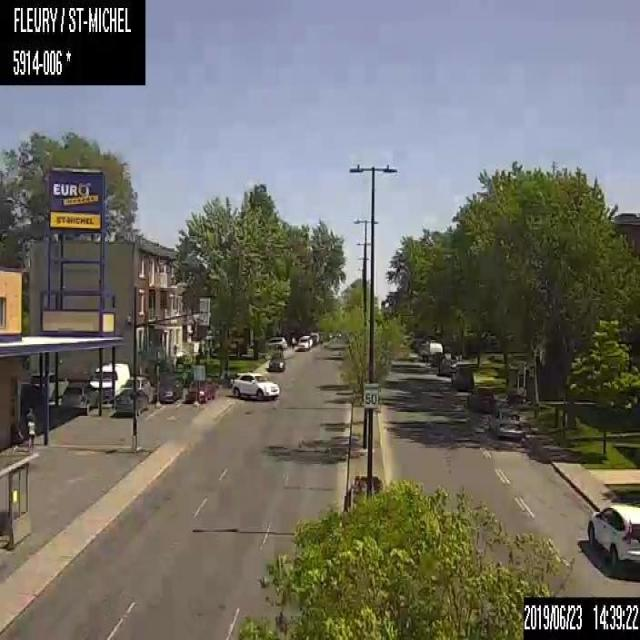pedestrian: (26, 416, 34, 452), (26, 406, 36, 419)
vehicle: (586, 502, 639, 574), (90, 360, 130, 400), (230, 369, 279, 399), (467, 381, 509, 416), (59, 379, 100, 414), (488, 404, 524, 443), (114, 387, 148, 421), (184, 374, 217, 405), (124, 376, 154, 402), (449, 360, 475, 389), (158, 376, 184, 403), (420, 340, 442, 362), (437, 354, 458, 377), (262, 332, 286, 350), (268, 350, 286, 370), (296, 334, 312, 349), (430, 350, 442, 365)
